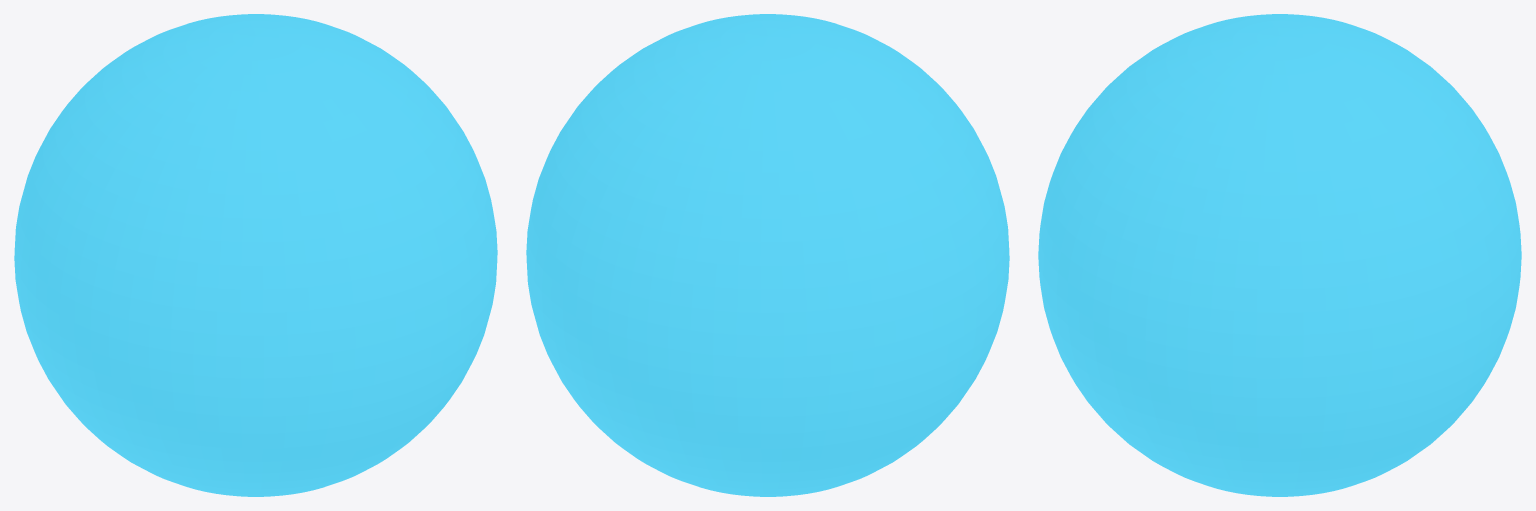
File: city_dome_100.glb
The picture shows the model from 3 angles, left to right: view 1: azimuth 30°, elevation 25°; view 2: azimuth 150°, elevation 25°; view 3: azimuth 270°, elevation 25°; orthographic projection.
Visible parts, largest first — view 1: city_dome_shell_100; view 2: city_dome_shell_100; view 3: city_dome_shell_100.
Boxes of the visible parts, box(x1,y1,x2,y2) form: city_dome_shell_100: box(14, 14, 497, 496); city_dome_shell_100: box(526, 14, 1009, 496); city_dome_shell_100: box(1038, 14, 1521, 496).
Bounding box in the file's own units: 206 × 206 × 206.
